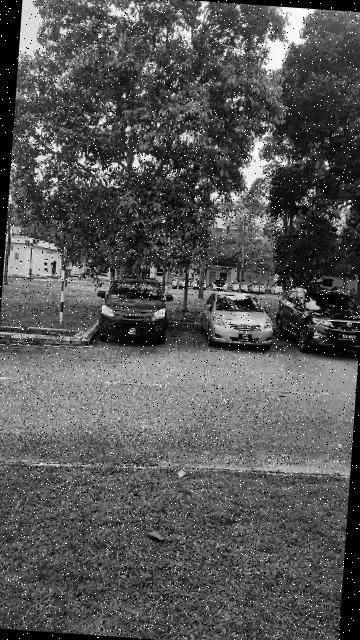License_Plate: (339, 334, 360, 342), (124, 327, 140, 336), (239, 333, 253, 342)
car: (274, 286, 360, 357), (94, 274, 175, 346), (199, 290, 276, 352)
